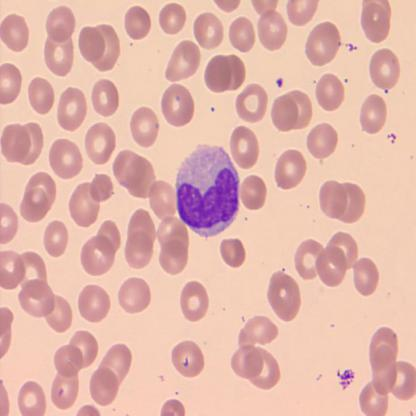Monocyte: (174, 141, 240, 238)
